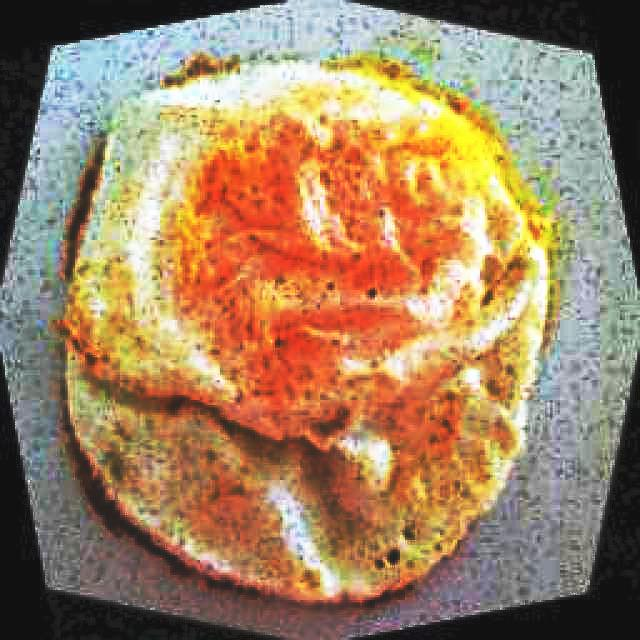fried_eggs: (63, 58, 550, 599)
